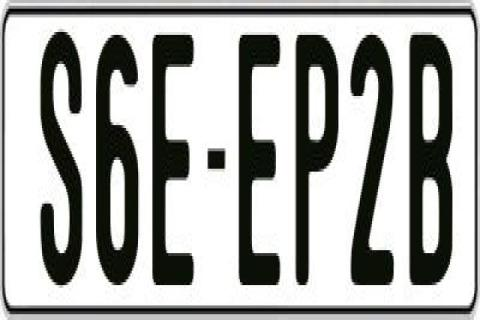0: (94, 26, 142, 288), (350, 35, 392, 291)
B: (408, 29, 452, 279)
E: (152, 32, 199, 285), (237, 29, 280, 294)
P: (292, 26, 336, 288)
S: (41, 32, 87, 300)
